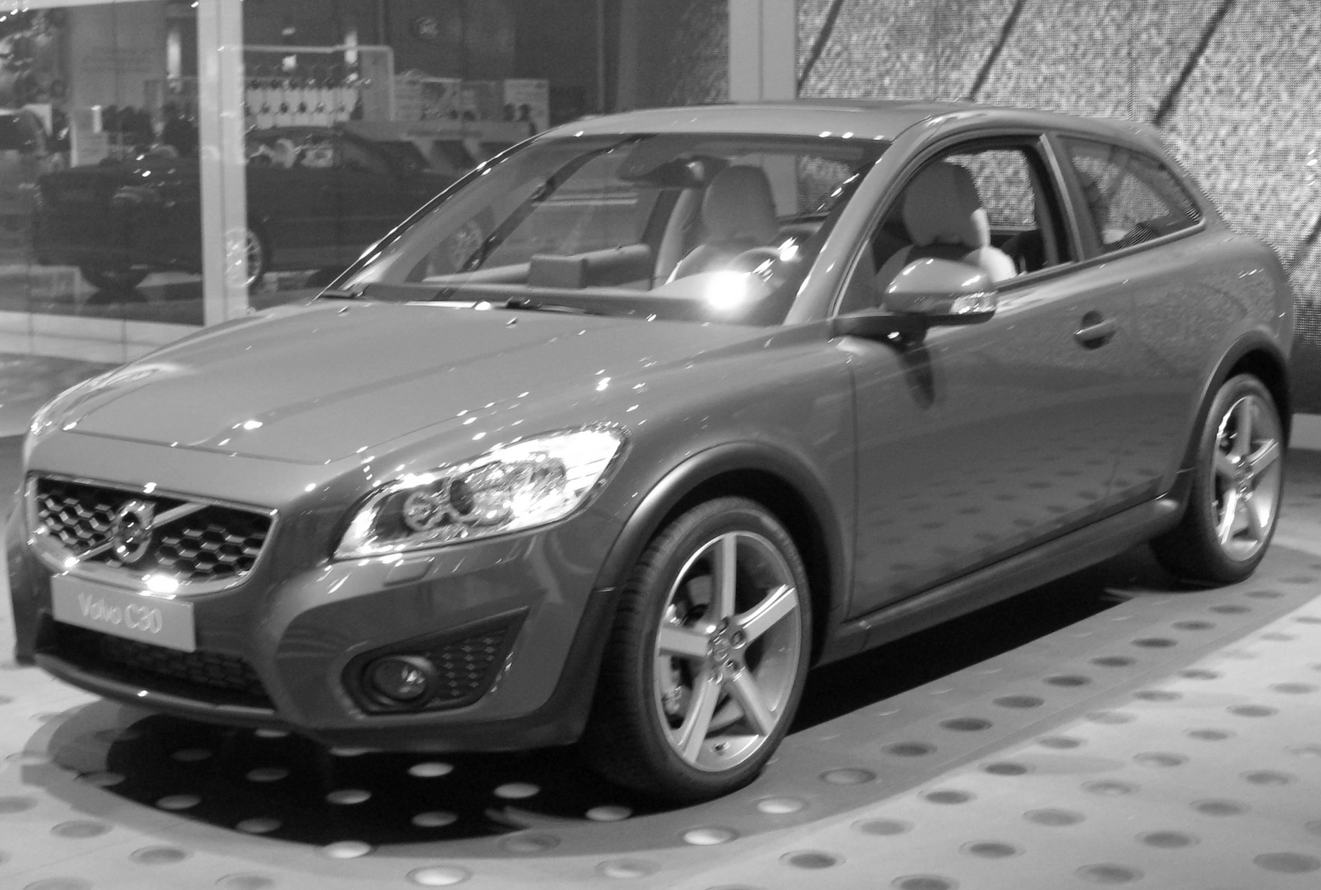car: (16, 103, 1280, 795)
